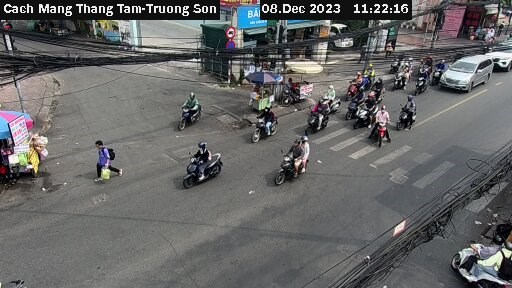car: (441, 53, 495, 91), (487, 43, 512, 71)
motorbike: (449, 223, 511, 286), (179, 147, 232, 190), (167, 91, 214, 130), (272, 143, 315, 182), (247, 106, 285, 144), (346, 95, 386, 128), (302, 101, 335, 137), (368, 110, 399, 147), (397, 99, 426, 132), (316, 79, 344, 112), (411, 70, 436, 99), (393, 66, 414, 95), (370, 80, 393, 105), (342, 74, 367, 97), (342, 91, 365, 113), (361, 63, 382, 87)
